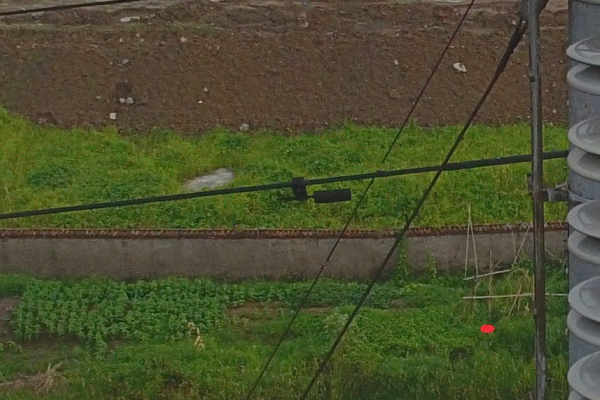damper_defect: (272, 174, 353, 204)
